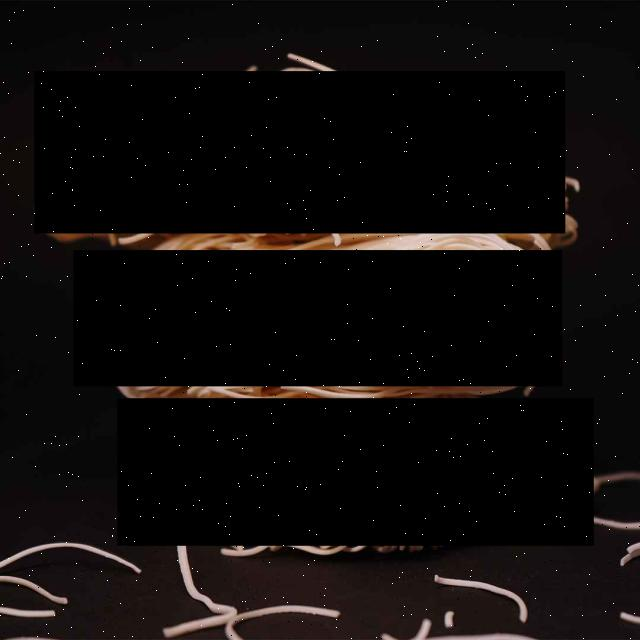Chowmein_Noodles: (34, 72, 566, 234), (117, 398, 594, 546), (74, 250, 562, 386)
